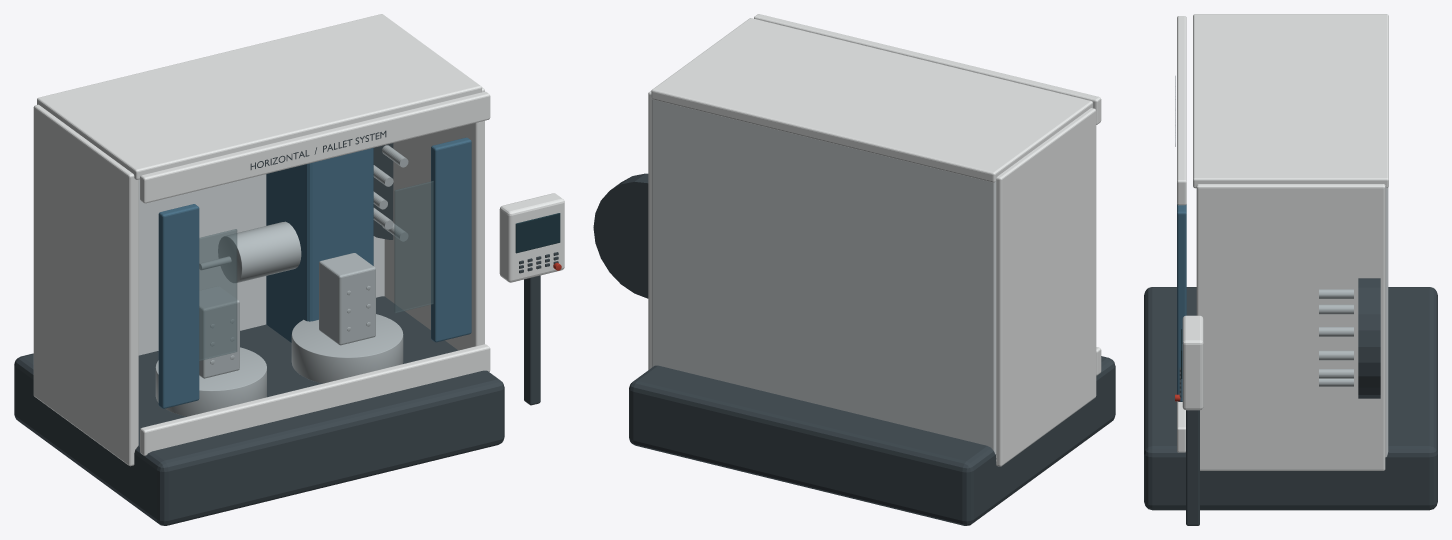
Rendered from hmc.glb.
3 views of the same model, side by side, from view 1: azimuth 30°, elevation 25°; view 2: azimuth 150°, elevation 25°; view 3: azimuth 270°, elevation 25° (orthographic). The views are drawn at different scales.
Parts seen in each view (by area): view 1: HMC | base, HMC | enclosure roof, HMC | enclosure side, HMC | rear column, HMC | enclosure side.001, HMC | enclosure back, HMC | fascia.001, HMC | fascia, HMC | front door frame, HMC | front door frame.001, HMC | rotary table.001, HMC | glazing.001 (+9 smaller); view 2: HMC | enclosure back, HMC | enclosure roof, HMC | base, HMC | enclosure side, HMC | tool carousel, HMC | fascia.001, HMC | enclosure side.001; view 3: HMC | enclosure side.001, HMC | enclosure roof, HMC | base, HMC | tool carousel, HMC controller, HMC | fascia.001, HMC control stem, HMC | front door frame.001, HMC | enclosure back, HMC | fascia, HMC | carousel tool pocket, HMC | carousel tool pocket.002 (+3 smaller).
Part boxes in pixels (box(x1,y1,x2,y2)): HMC | base: box(14, 296, 504, 525); HMC | enclosure roof: box(37, 14, 481, 179); HMC | enclosure side: box(33, 104, 138, 466); HMC | rear column: box(266, 148, 373, 342); HMC | enclosure side.001: box(384, 87, 484, 350); HMC | enclosure back: box(138, 174, 384, 355); HMC | fascia.001: box(140, 91, 490, 203); HMC | fascia: box(140, 344, 490, 455); HMC | front door frame: box(158, 204, 199, 408); HMC | front door frame.001: box(431, 137, 471, 342); HMC | rotary table.001: box(291, 314, 403, 383); HMC | glazing.001: box(394, 181, 433, 313); HMC | enclosure back: box(651, 99, 996, 461); HMC | enclosure roof: box(651, 18, 1092, 182); HMC | base: box(629, 356, 1115, 525); HMC | enclosure side: box(996, 108, 1096, 466); HMC | tool carousel: box(593, 173, 648, 298); HMC | fascia.001: box(754, 14, 1101, 124); HMC | enclosure side.001: box(648, 90, 651, 369); HMC | enclosure side.001: box(1196, 184, 1385, 470); HMC | enclosure roof: box(1193, 14, 1388, 188); HMC | base: box(1144, 287, 1437, 510); HMC | tool carousel: box(1358, 278, 1380, 398); HMC controller: box(1182, 315, 1203, 410); HMC | fascia.001: box(1177, 16, 1186, 205); HMC control stem: box(1186, 410, 1199, 525); HMC | front door frame.001: box(1177, 204, 1186, 401); HMC | enclosure back: box(1385, 186, 1388, 457); HMC | fascia: box(1177, 401, 1185, 452); HMC | carousel tool pocket: box(1319, 350, 1353, 360); HMC | carousel tool pocket.002: box(1319, 304, 1353, 314).
Size of the model in its own units: 3.47 by 2.63 by 2.1.
